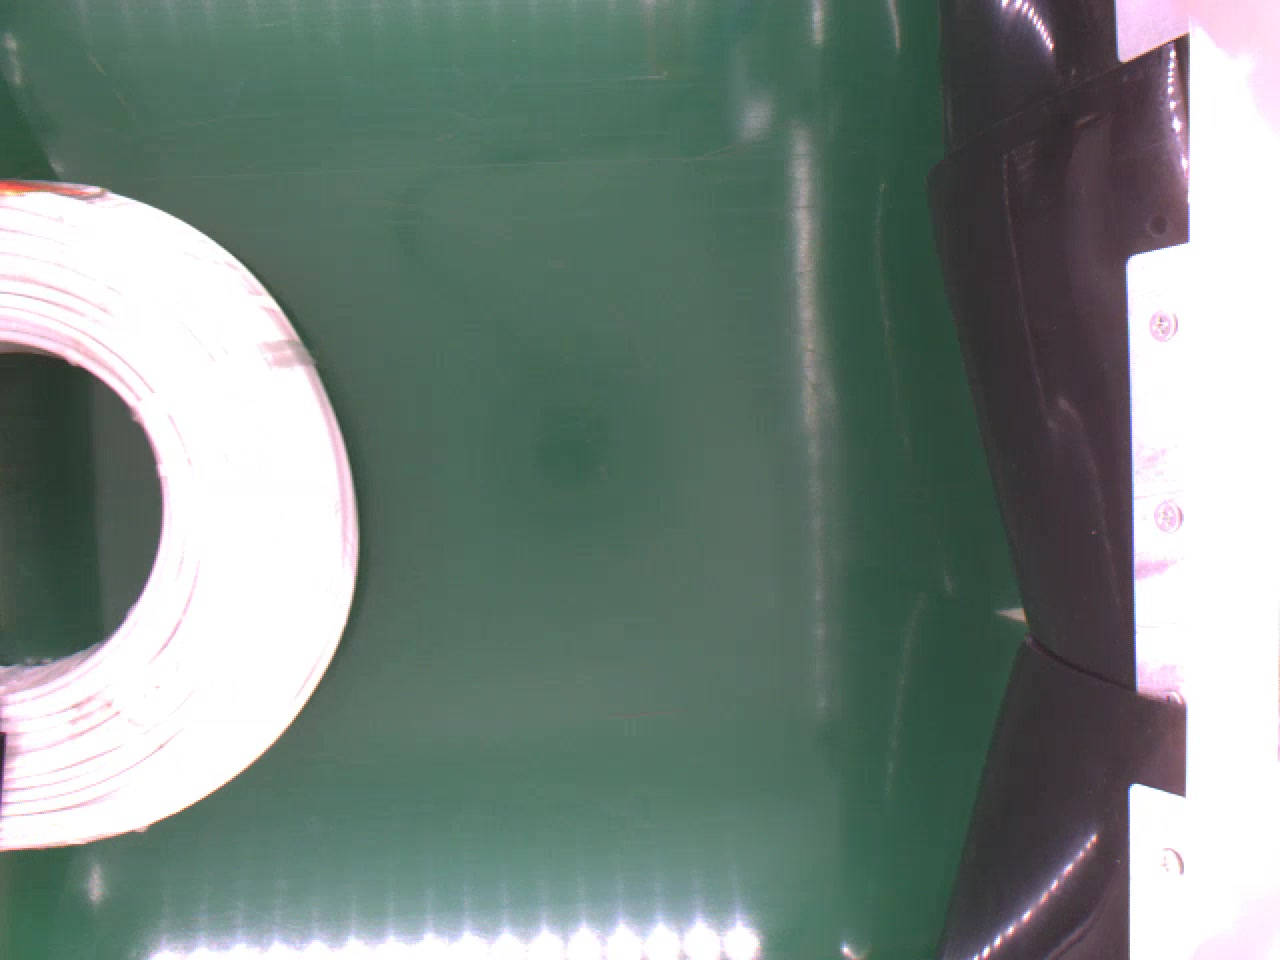white: (0, 176, 363, 851)
